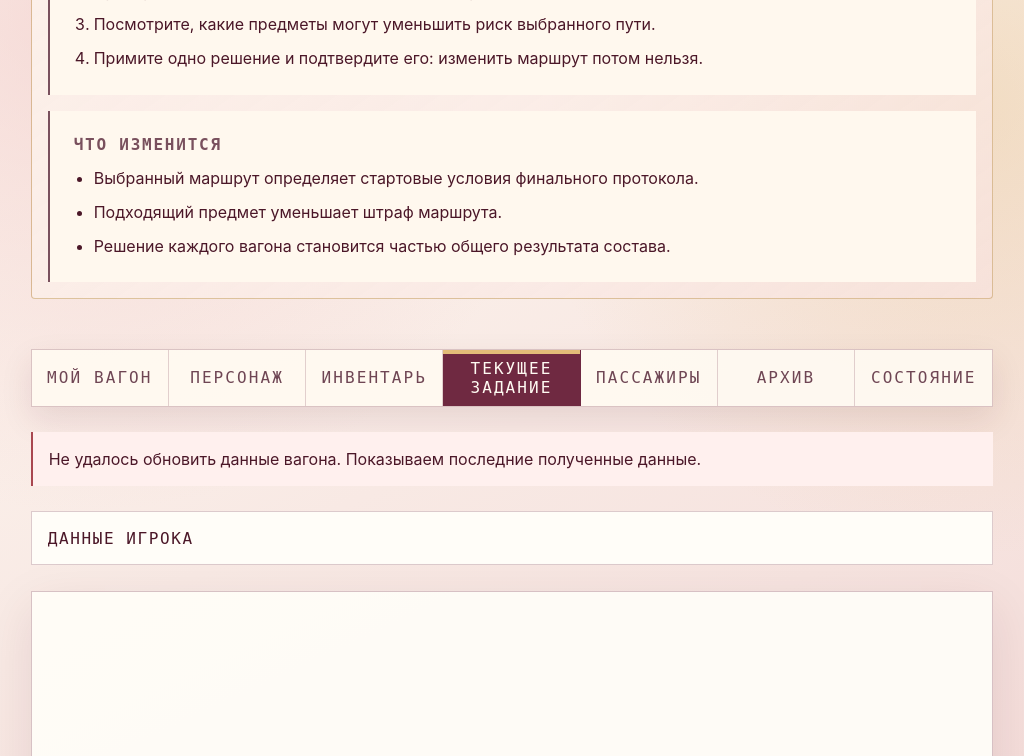
Test: GuestHub persistent Bunker dashboard › passes the durable dashboard and its recoverable connection warning into the Bunker phone UI
The width and height of the screenshot is (1024, 756).
(page scrolled)
expect the message shows "последние полученные данные": met, box [49,448,701,468]
Click the button "ИНВЕНТАРЬ".
click(375, 378)  # box [306,350,443,406]
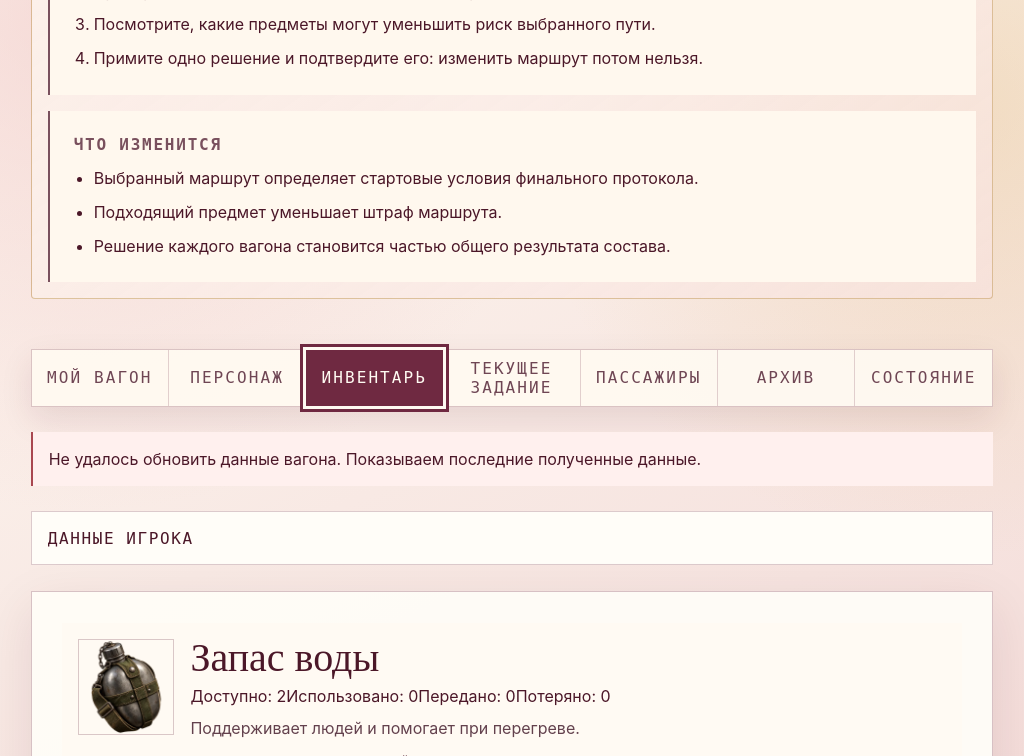
expect the heading "Запас воды" is shown: met, box [190,635,379,680]
expect the text "Доступно: 2" is shown: met, box [190,686,286,706]
